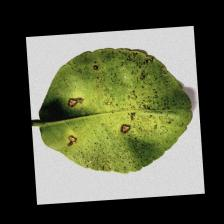canker: (114, 56, 174, 112)
